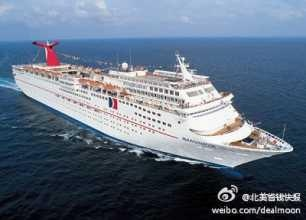youlun: (10, 31, 293, 170)
